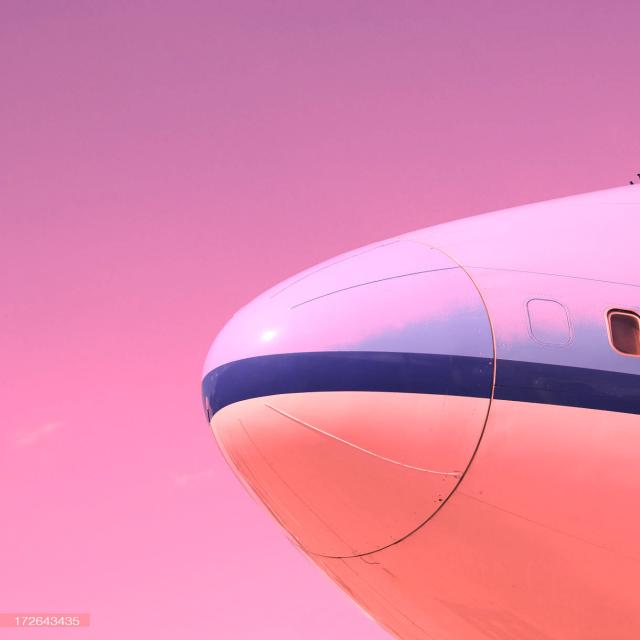Rupture: (357, 554, 386, 568)
